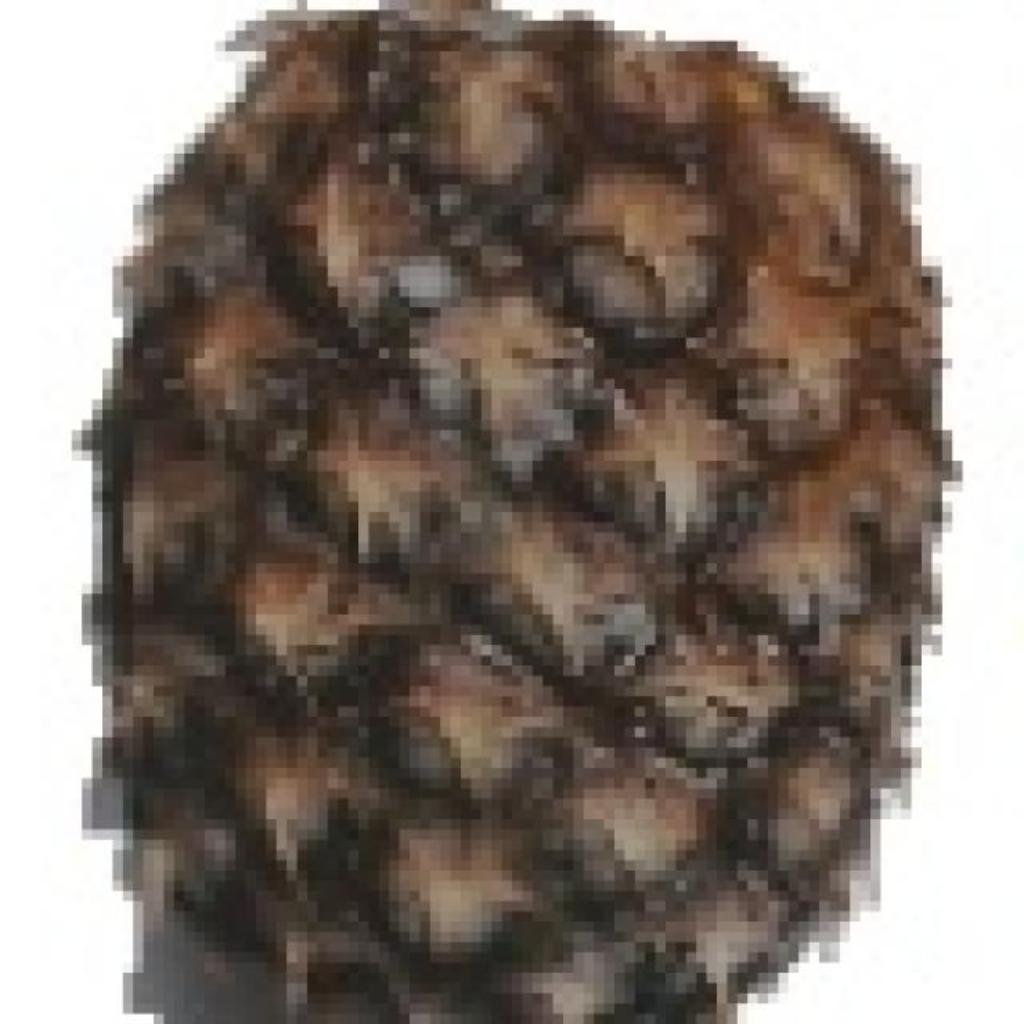pineapple: (86, 0, 946, 1024)
